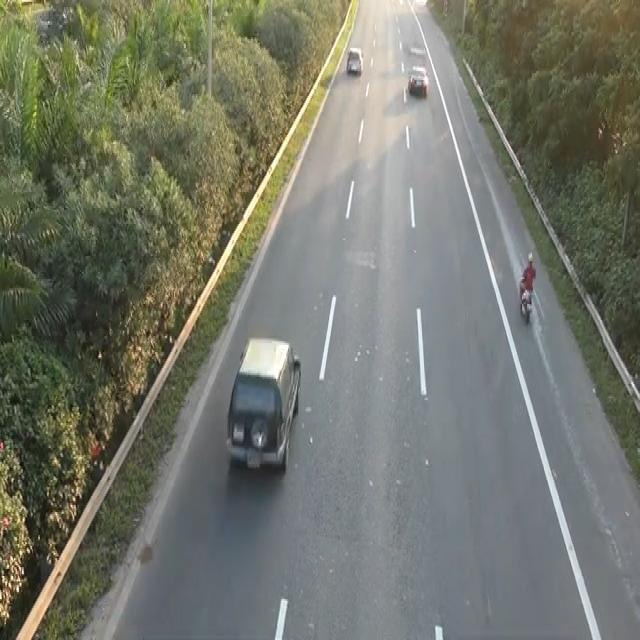car: (223, 330, 302, 474)
minibus: (518, 276, 534, 324)
